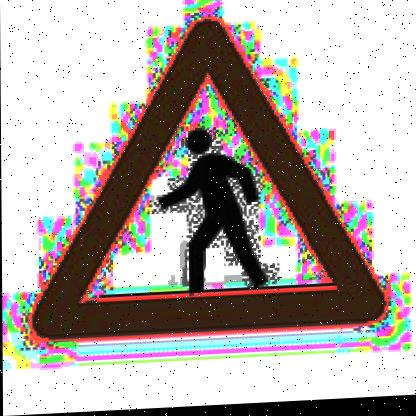Pedestrian Crossing: (23, 2, 396, 365)
